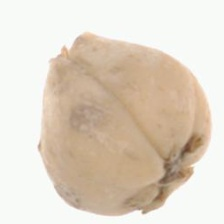L1: (143, 141, 199, 213), (45, 31, 94, 72)
L2: (38, 32, 212, 217)
